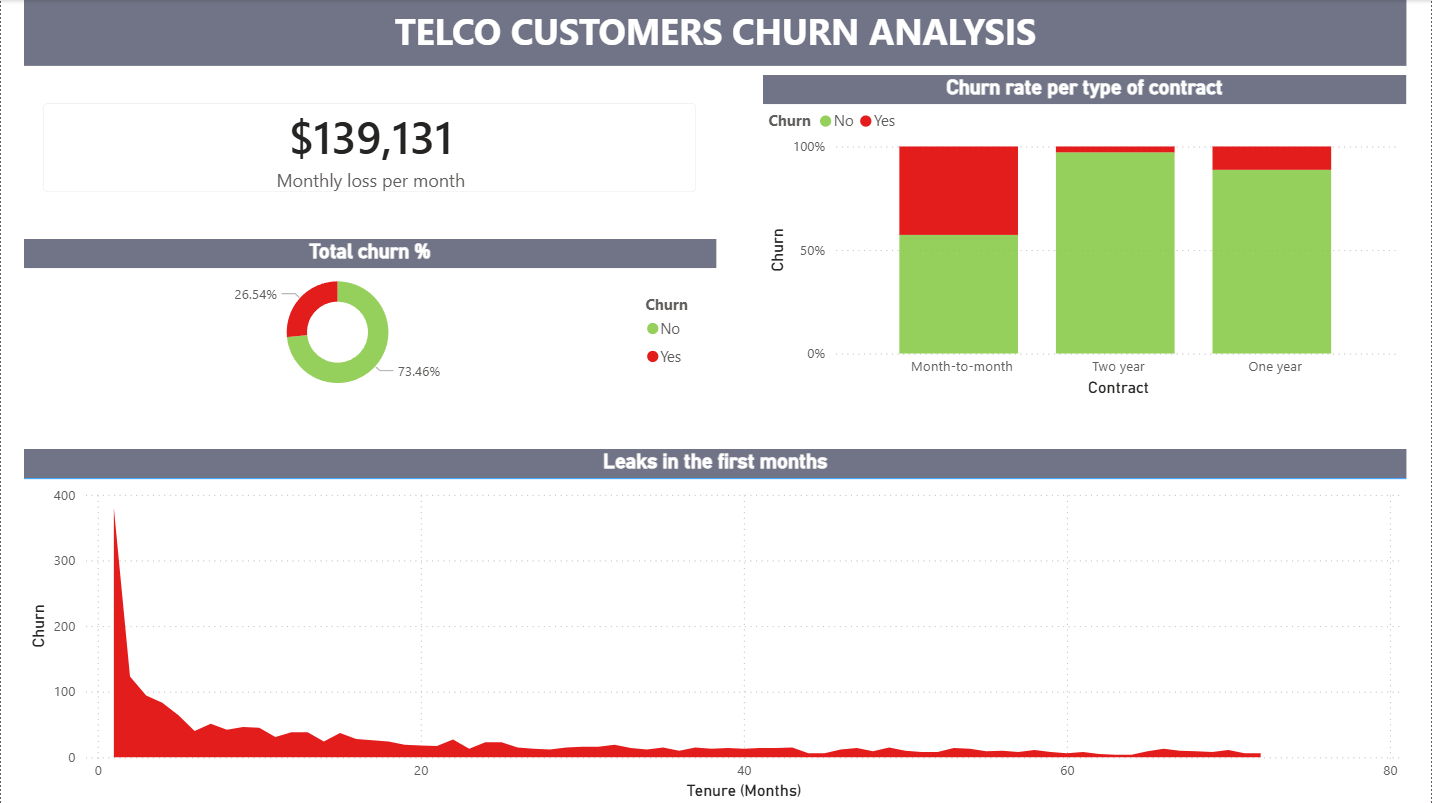

What the dashboard file says about the page in this screenshot:
{"tool":"powerbi","page":{"name":"Página 1","canvas":[1280,720],"ordinal":0},"visuals":[{"type":"donutChart","title":"Total churn %","fields":{"Category":["telco_churn_final.Churn"],"Y":["CountNonNull(telco_churn_final.Churn)"]},"box":[20.4,214,619.6,145.9],"z":0},{"type":"hundredPercentStackedColumnChart","title":"Churn rate per type of contract","fields":{"Y":["CountNonNull(telco_churn_final.Churn)"],"Category":["telco_churn_final.Contract"],"Series":["telco_churn_final.Churn"]},"box":[682.8,67.1,575.8,292.8],"z":1000},{"type":"areaChart","title":"Leaks in the first months","fields":{"Category":["telco_churn_final.tenure"],"Y":["CountNonNull(telco_churn_final.Churn)"],"Series":["telco_churn_final.Churn"]},"box":[20.4,401.7,1238.2,318.1],"z":1001},{"type":"textbox","box":[20.4,0,1238.2,59.3],"z":1003},{"type":"cardVisual","fields":{"Data":["Sum(telco_churn_final.MonthlyCharges)"]},"box":[20.4,74.9,619.6,114.8],"z":1004}]}

Visuals, with their boxes in screenshot pixels (x1, y1, x2, y2), scaled from the page's 1280x720 canvas onto the 1432x803 screenshot:
"Total churn %" donutChart: x1=23, y1=239, x2=716, y2=401
"Churn rate per type of contract" hundredPercentStackedColumnChart: x1=764, y1=75, x2=1408, y2=401
"Leaks in the first months" areaChart: x1=23, y1=448, x2=1408, y2=802
textbox: x1=23, y1=0, x2=1408, y2=66
cardVisual - Sum(telco_churn_final.MonthlyCharges): x1=23, y1=84, x2=716, y2=212
